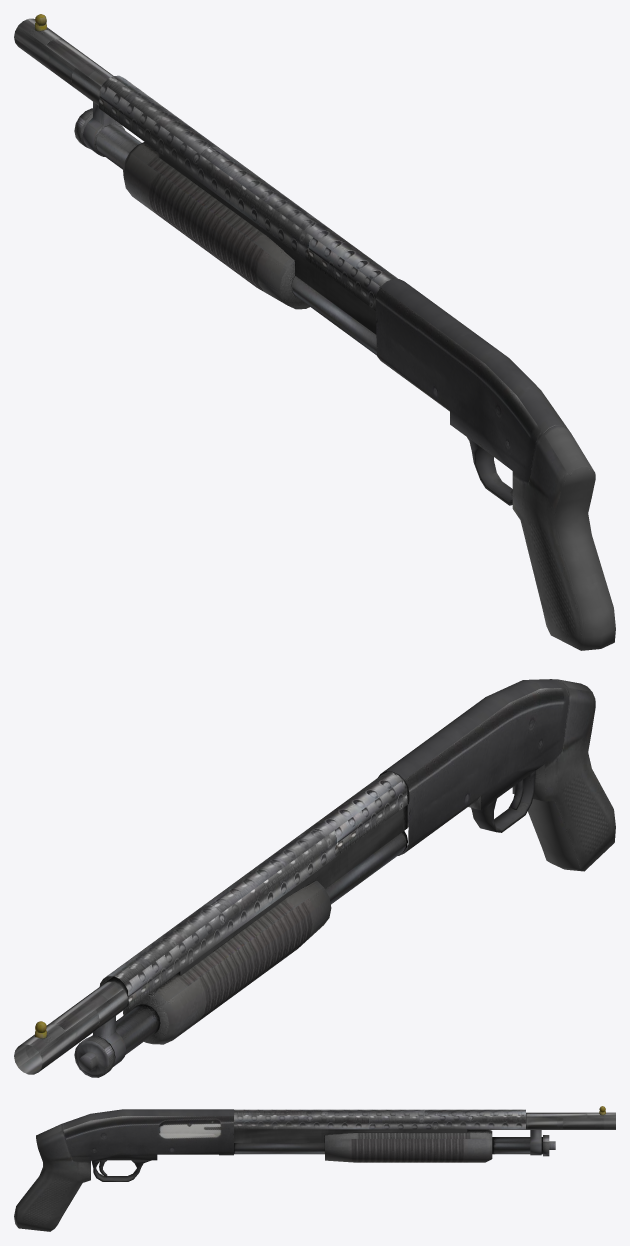
Rendered from w_mossberg.glb.
The picture shows the model from 3 angles, top to bottom: view 1: azimuth 30°, elevation 25°; view 2: azimuth 150°, elevation 25°; view 3: azimuth 270°, elevation 25°; orthographic projection. The views are drawn at different scales.
Parts seen in each view (by area): view 1: w_mossberg; view 2: w_mossberg; view 3: w_mossberg.
Part boxes in pixels (box(x1,y1,x2,y2)): w_mossberg: box(14, 14, 615, 650); w_mossberg: box(14, 679, 615, 1077); w_mossberg: box(14, 1106, 615, 1231).
Bounding box in the file's own units: 0.0528 × 0.2014 × 0.9068.
1 material, 1 textured.
